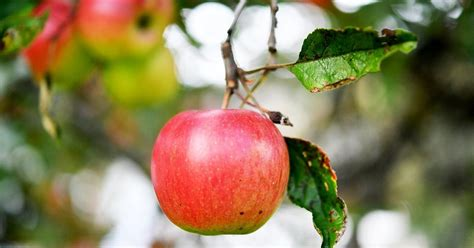apple: (147, 98, 304, 239)
